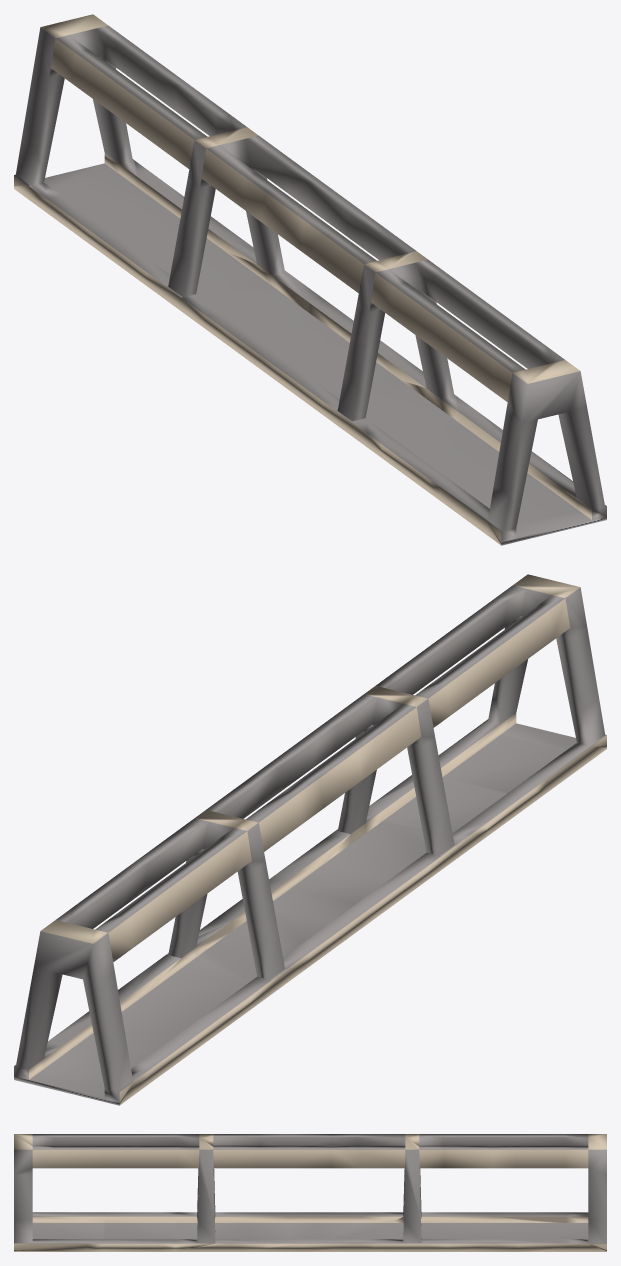
File: expbridge.glb
The picture shows the model from 3 angles, top to bottom: view 1: azimuth 30°, elevation 25°; view 2: azimuth 150°, elevation 25°; view 3: azimuth 270°, elevation 25°; orthographic projection. The views are drawn at different scales.
Parts seen in each view (by area): view 1: expbridge; view 2: expbridge; view 3: expbridge.
Boxes of the visible parts, x1,y1,x2,y2 form: expbridge: (14,14,606,545); expbridge: (14,574,606,1105); expbridge: (14,1134,606,1251).
Bounding box in the file's own units: 16 × 22.5 × 128.
